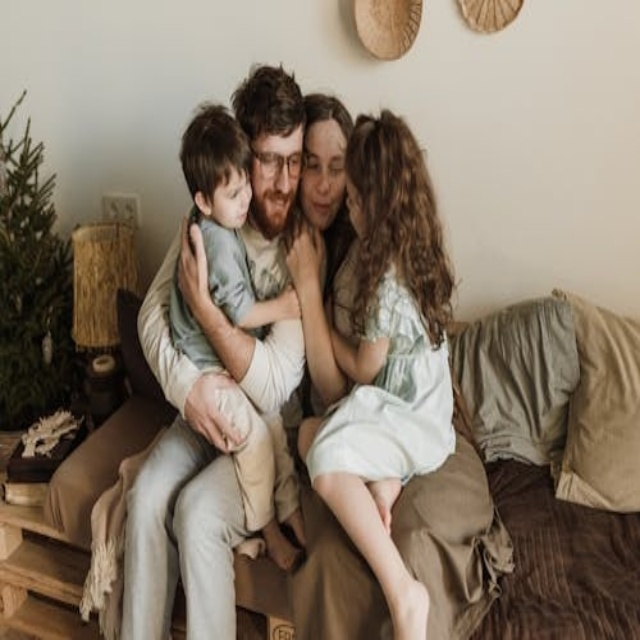Gafas: (244, 132, 302, 174)
Sin_gafas: (305, 144, 348, 182), (218, 176, 255, 201)
Sin_guantes: (188, 370, 260, 457), (179, 221, 221, 314), (284, 213, 324, 288)
Sin_mascara: (307, 186, 335, 218), (259, 186, 292, 207)
